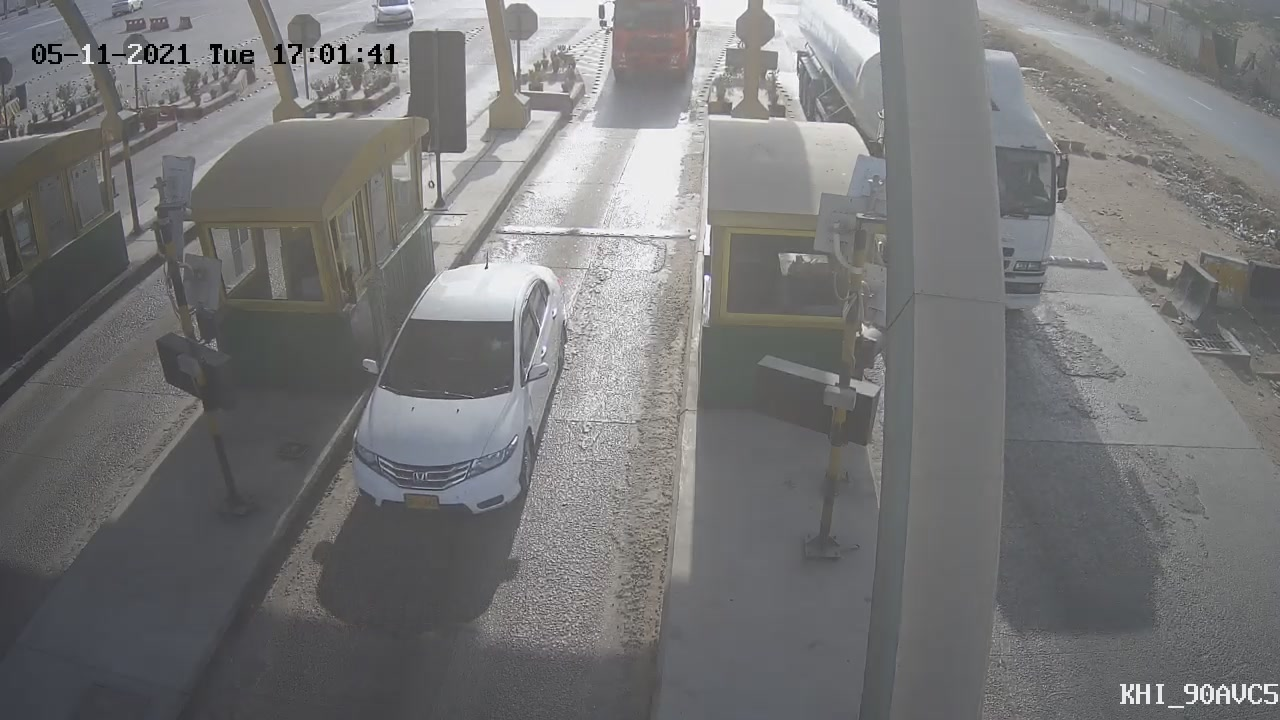F1: (326, 233, 591, 542)
